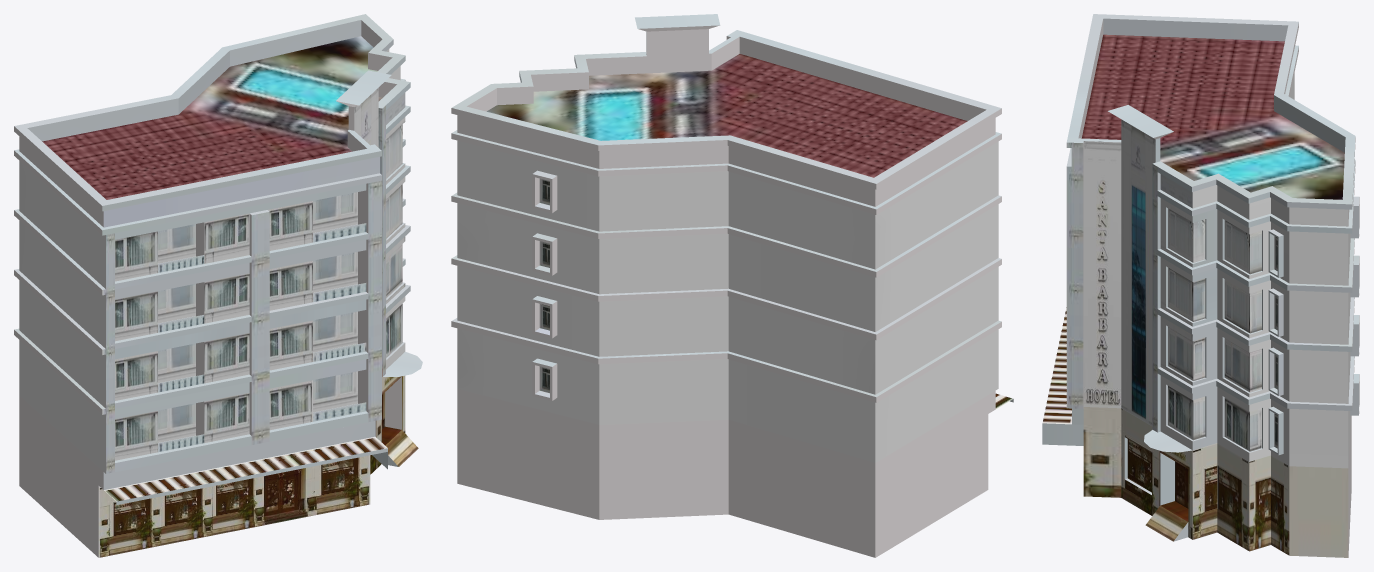
The picture shows the model from 3 angles, left to right: view 1: azimuth 30°, elevation 25°; view 2: azimuth 150°, elevation 25°; view 3: azimuth 270°, elevation 25°; orthographic projection. The views are drawn at different scales.
Visible parts, largest first — view 1: 5f8d697864df97299cfcb66e; view 2: 5f8d697864df97299cfcb66e; view 3: 5f8d697864df97299cfcb66e.
Part boxes in pixels (x1,y1,x2,y2): 5f8d697864df97299cfcb66e: (14, 14, 422, 557); 5f8d697864df97299cfcb66e: (451, 14, 1013, 557); 5f8d697864df97299cfcb66e: (1042, 14, 1359, 557).
Size of the model in its own units: 22.8 by 21.54 by 16.04.
Materials: 1 (1 with a texture image).
